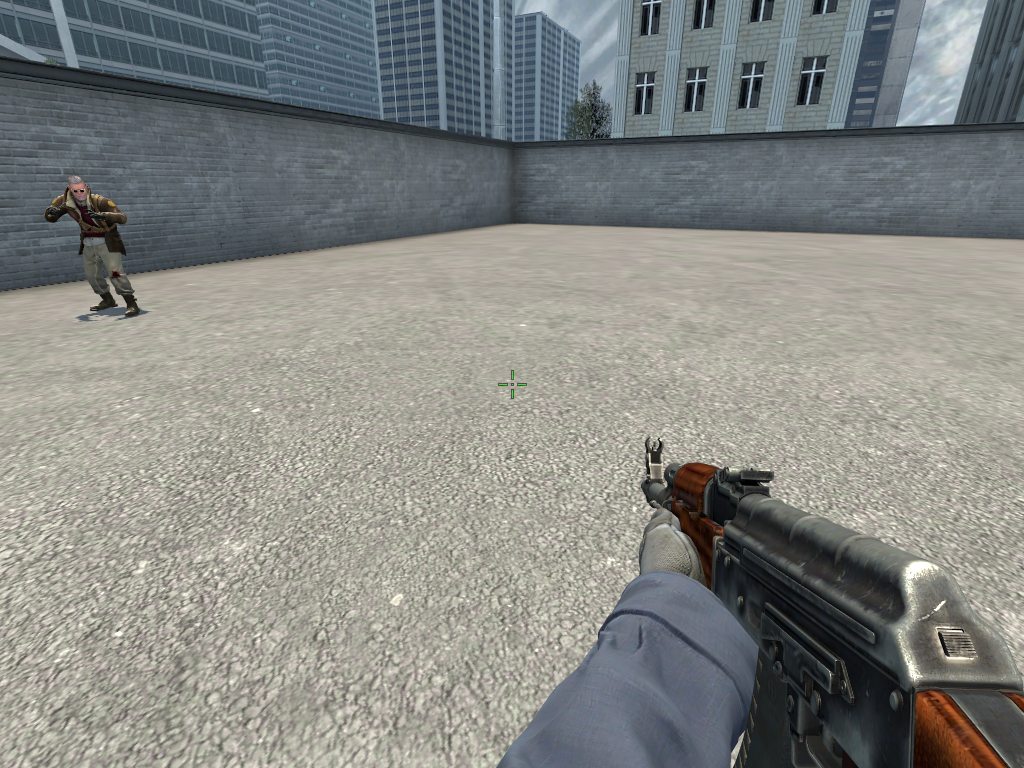tr head: (65, 174, 92, 203)
